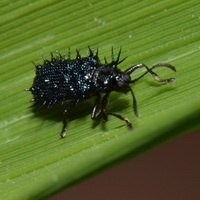insect: (28, 46, 175, 137)
